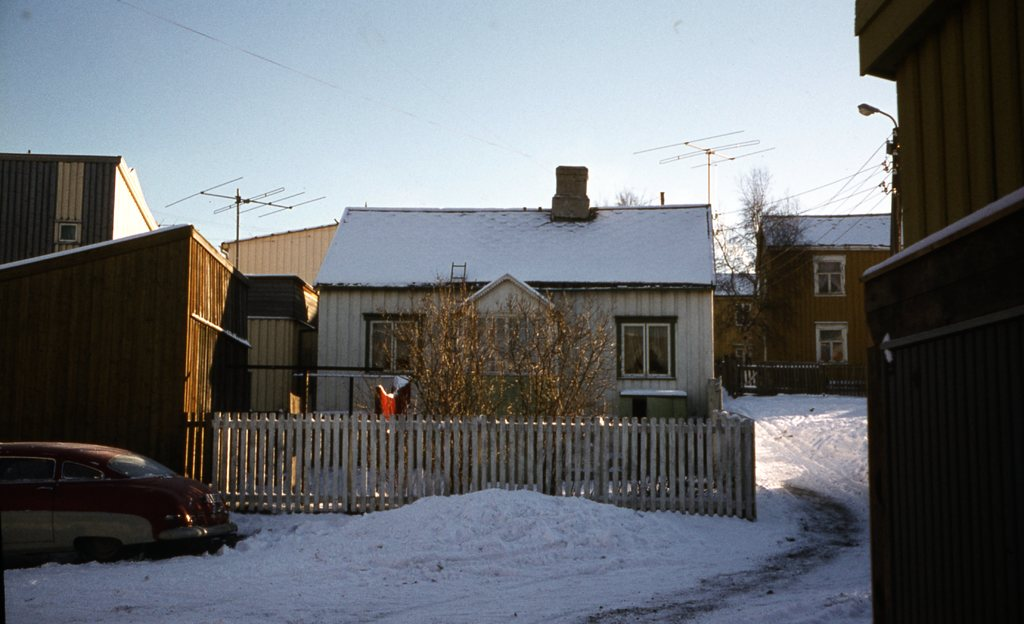Car: (0, 440, 243, 562)
